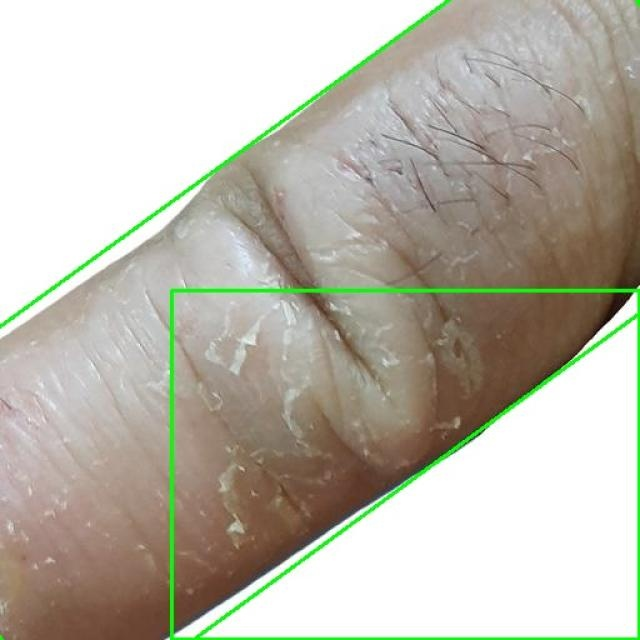Eczema: (0, 0, 640, 640), (171, 290, 639, 639)
